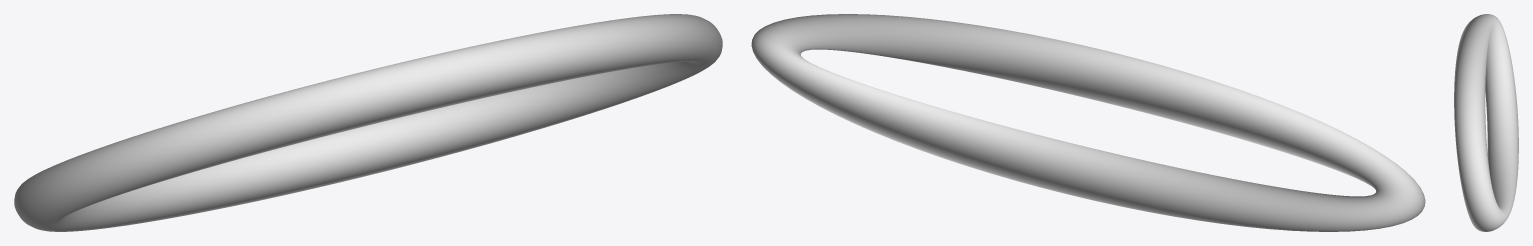
The model's file is zcollar-whi-3d.glb.
3 views of the same model, side by side, from view 1: azimuth 30°, elevation 25°; view 2: azimuth 150°, elevation 25°; view 3: azimuth 270°, elevation 25° (orthographic). The views are drawn at different scales.
Visible parts, largest first — view 1: mesh_id38; view 2: mesh_id38; view 3: mesh_id38.
Boxes of the visible parts, x1,y1,x2,y2 form: mesh_id38: (14,14,722,231); mesh_id38: (751,14,1425,231); mesh_id38: (1454,14,1518,231).
Bounding box in the file's own units: 0.3199 × 0.0551 × 0.0436.
1 material, 1 textured.
